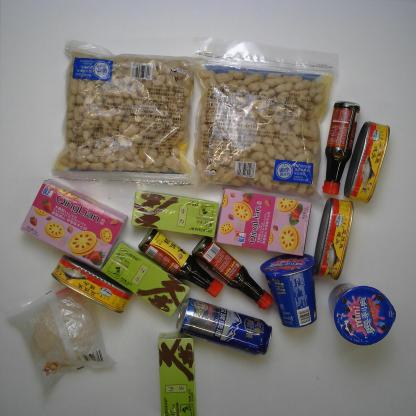Alcohol: (175, 298, 278, 354)
Canned Food: (47, 253, 128, 315), (306, 198, 356, 278), (346, 117, 389, 206)
Dessert: (21, 178, 126, 268), (10, 284, 110, 374), (212, 184, 313, 258), (258, 248, 320, 330), (328, 284, 396, 345)
Dried Food: (194, 37, 334, 204), (57, 29, 198, 190)
Instant Drink: (104, 244, 194, 314), (128, 191, 218, 237), (156, 332, 196, 415)
Seasoner: (138, 226, 222, 298), (192, 235, 273, 308), (322, 96, 359, 199)
